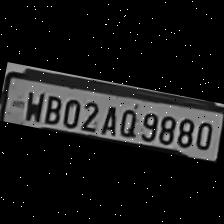0: (191, 116, 216, 152), (60, 94, 83, 128)
2: (77, 96, 102, 132)
8: (155, 110, 179, 146), (173, 112, 197, 148)
9: (137, 107, 162, 142)
A: (98, 100, 122, 135)
B: (40, 90, 65, 125)
Q: (115, 103, 140, 137)
W: (20, 87, 46, 123)
